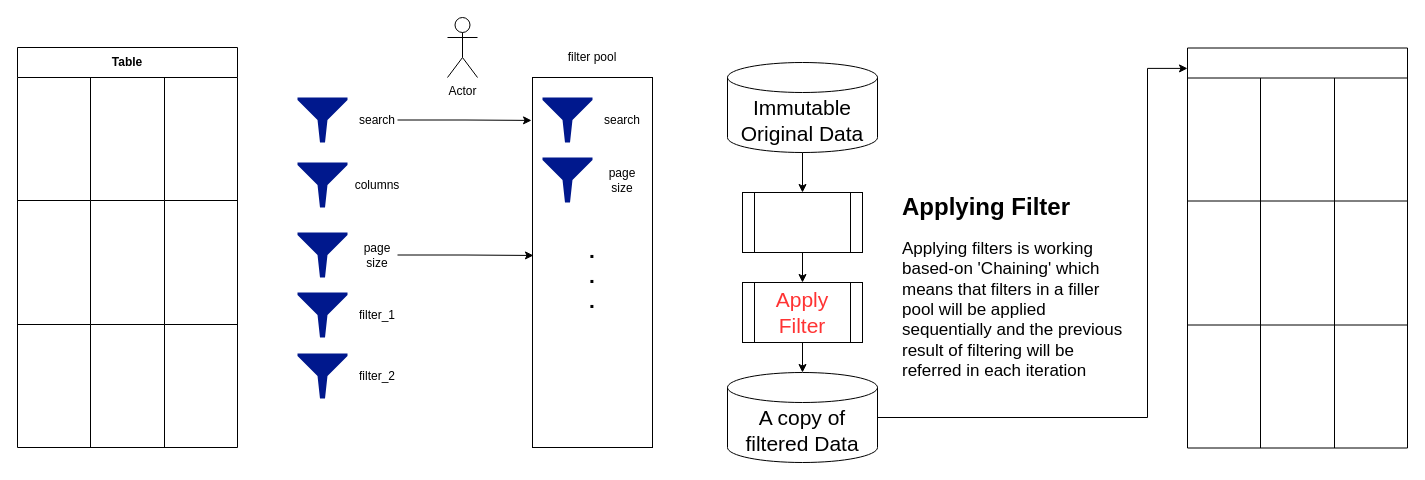
Image size: 1425x480. Some labels were removed from this diagram. The centre of each missing label's shape, as x and y in pixels:
Filtered: point 1297,247
Iterate filter pool: point 802,222
